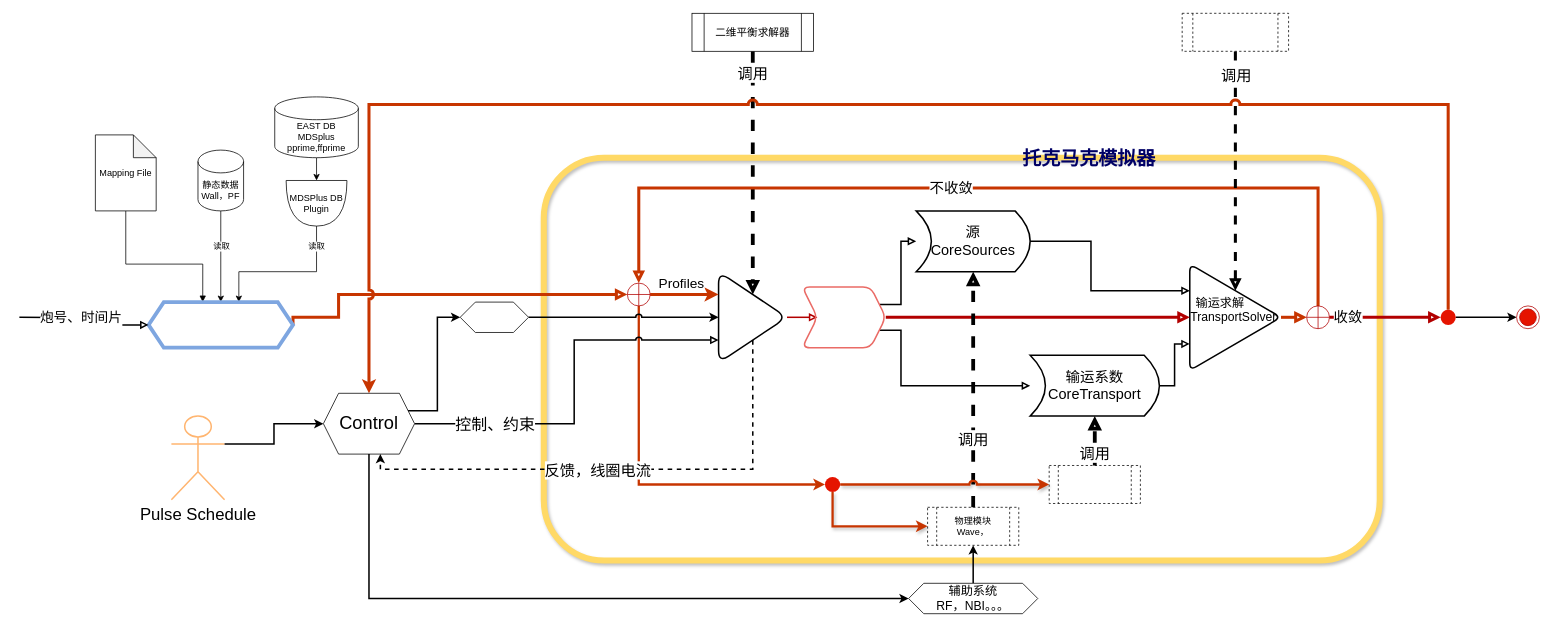
This 1553x627 diagram has some shape labels left out. Each missing label, with the centre of its shape:
"Data Interface" goes at point (220, 324).
"Gyrokinetic，MHD" goes at point (1094, 484).
"一维输运求解器" goes at point (1235, 32).
"平衡求解器 Equilibrium" goes at point (752, 317).
"数据转换 （磁面平均） FluxSurface" goes at point (843, 317).
"磁场线圈" goes at point (494, 316).
